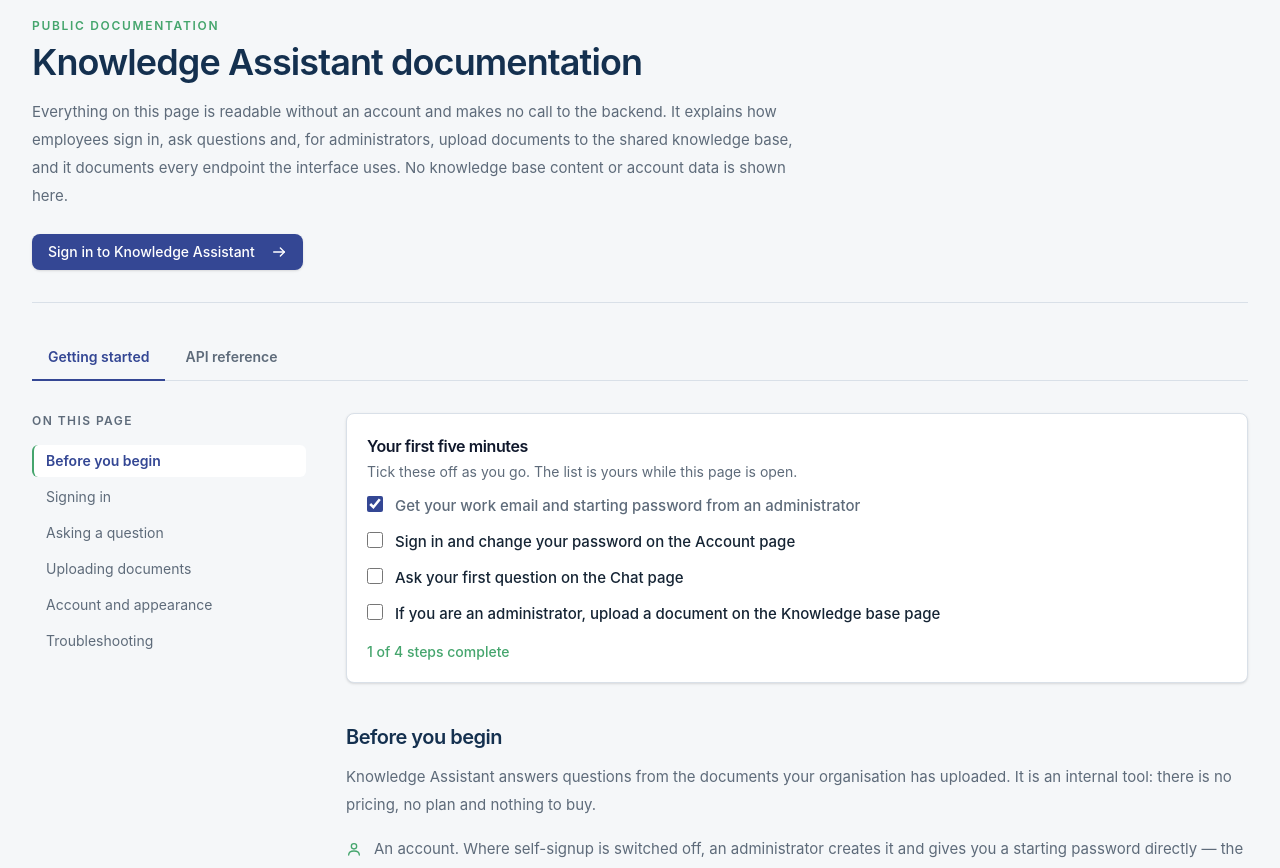
Test: Docs screen › AC-089: API reference documents every shipped endpoint with no chat/conversations endpoints invented
The image size is (1280, 868).
Step 1. Click the tab "API reference" → (232, 358), box top-left (170, 335), bottom-right (294, 381)
(page scrolled)
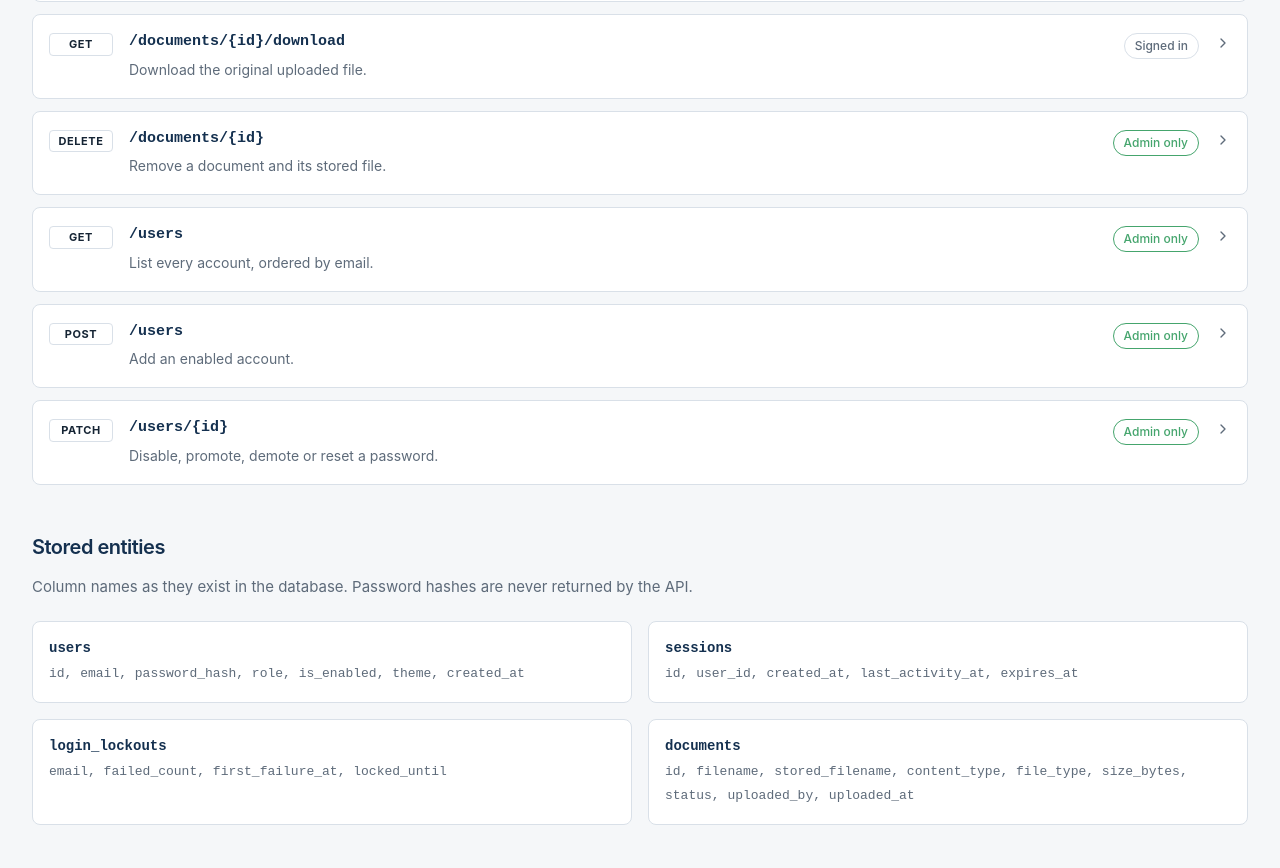
Expected: the text "/documents/{id}/download" is shown, top-left (129, 33), bottom-right (345, 50)
Expected: the text "/documents/{id}" is shown, top-left (129, 130), bottom-right (264, 146)
Expected: the 1st text "/users" is shown, top-left (129, 226), bottom-right (183, 243)
